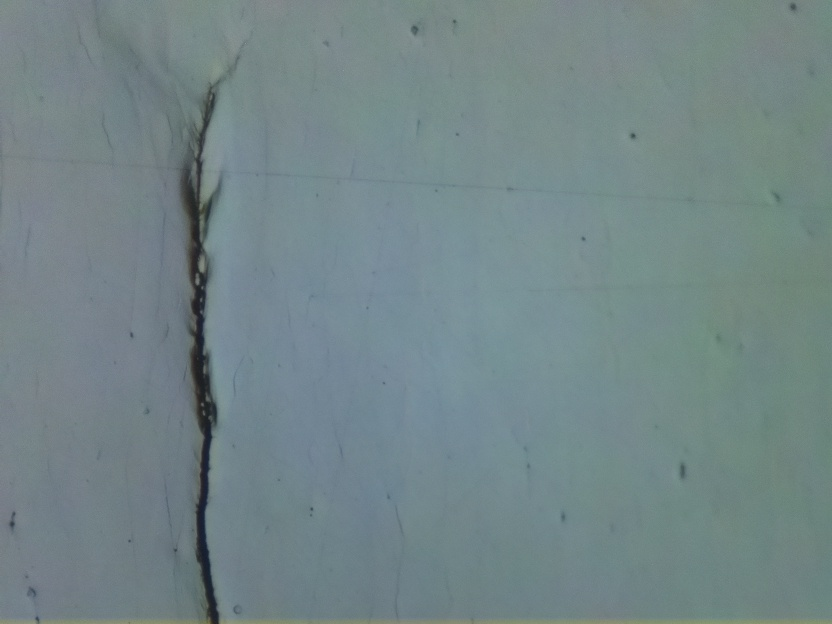crack: (180, 38, 248, 624)
